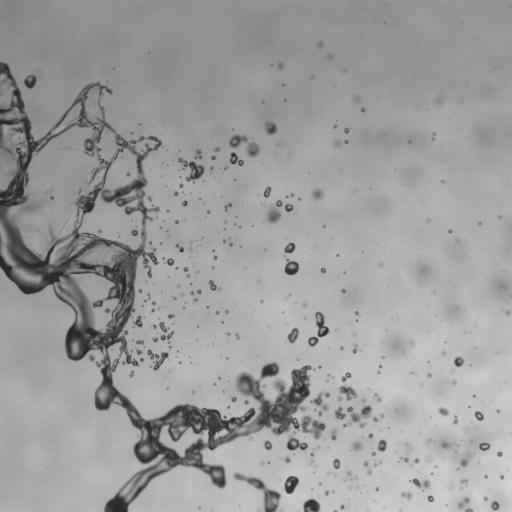droplet: (343, 405, 371, 427), (178, 158, 204, 181), (337, 372, 357, 401), (310, 391, 329, 416), (147, 349, 168, 370), (282, 476, 299, 494), (159, 321, 173, 342), (284, 259, 299, 275), (410, 478, 430, 490), (302, 498, 320, 511), (229, 135, 247, 147), (246, 142, 259, 157), (229, 152, 243, 165), (287, 328, 299, 343), (264, 121, 276, 135), (24, 75, 36, 88), (284, 242, 295, 255), (334, 407, 345, 419), (312, 188, 323, 199), (351, 440, 362, 451), (458, 497, 469, 508), (377, 439, 386, 451), (133, 316, 142, 327), (330, 428, 338, 440), (454, 356, 463, 366), (479, 442, 490, 450), (474, 411, 483, 420), (194, 149, 202, 159), (438, 407, 448, 415), (264, 440, 272, 450), (491, 501, 499, 511), (333, 458, 340, 469), (460, 478, 467, 489), (400, 492, 411, 499), (264, 187, 271, 197), (163, 258, 173, 265), (352, 343, 359, 353), (373, 394, 381, 402), (285, 204, 293, 211), (366, 433, 373, 440), (426, 455, 433, 462), (283, 456, 290, 463), (442, 442, 450, 448), (225, 203, 231, 210), (453, 416, 458, 424), (334, 140, 340, 146), (136, 349, 142, 355), (427, 495, 433, 501), (278, 63, 283, 69), (353, 96, 359, 101), (182, 200, 187, 206), (231, 396, 236, 402), (425, 439, 431, 444), (136, 340, 143, 344), (344, 128, 349, 133), (183, 267, 188, 272), (129, 371, 134, 376), (373, 417, 378, 422), (414, 458, 419, 463), (318, 42, 322, 47), (214, 147, 219, 151), (147, 196, 151, 201), (321, 268, 325, 273), (168, 314, 173, 318), (441, 351, 446, 355), (497, 452, 502, 456), (325, 490, 329, 495), (340, 505, 345, 509), (174, 191, 178, 195), (448, 229, 452, 233), (213, 255, 217, 259), (193, 298, 197, 302), (152, 324, 156, 328), (235, 334, 239, 338), (427, 373, 431, 377), (452, 380, 456, 384), (152, 338, 157, 341), (361, 108, 365, 111), (333, 124, 337, 127), (211, 156, 215, 159), (126, 172, 129, 176), (179, 184, 183, 187), (175, 220, 179, 223), (147, 294, 150, 298), (302, 303, 305, 307), (355, 311, 358, 315), (505, 311, 509, 314), (406, 443, 409, 447), (329, 55, 332, 58), (438, 98, 441, 101), (498, 215, 501, 218), (229, 243, 232, 246), (139, 289, 142, 292), (342, 289, 345, 292), (181, 293, 184, 296), (152, 301, 155, 304), (226, 332, 229, 335), (362, 399, 365, 402), (372, 452, 375, 455), (484, 497, 487, 500), (210, 167, 213, 169), (225, 166, 227, 169), (51, 196, 53, 199), (207, 210, 209, 213), (187, 274, 189, 277), (260, 300, 263, 302), (169, 346, 171, 349), (340, 347, 343, 349), (377, 371, 380, 373), (227, 406, 230, 408), (496, 410, 499, 412), (381, 414, 383, 417), (500, 476, 503, 478), (432, 134, 434, 136), (478, 222, 480, 224), (98, 230, 100, 232), (223, 240, 225, 242), (336, 254, 338, 256), (173, 297, 175, 299), (152, 309, 154, 311), (411, 342, 413, 344), (379, 365, 381, 367), (318, 366, 320, 368), (485, 475, 487, 477), (376, 488, 378, 490), (399, 509, 401, 511)
ligament: (0, 61, 325, 511), (233, 472, 283, 511), (308, 311, 329, 346), (266, 200, 282, 223), (459, 452, 473, 467), (209, 280, 221, 290), (363, 461, 371, 475), (346, 471, 355, 480), (176, 244, 183, 252), (190, 289, 201, 294), (373, 461, 382, 466), (400, 457, 408, 462), (310, 453, 313, 463), (326, 374, 330, 381), (464, 508, 473, 511), (334, 510, 337, 511)
